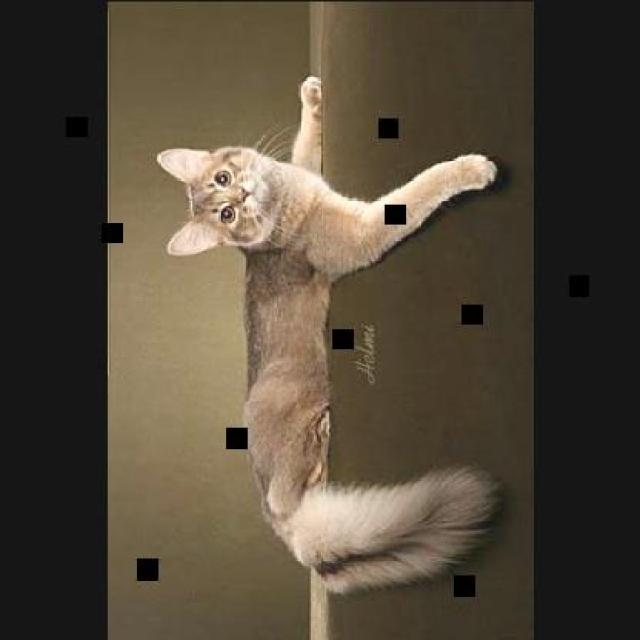unauthorized: (155, 74, 503, 595)
